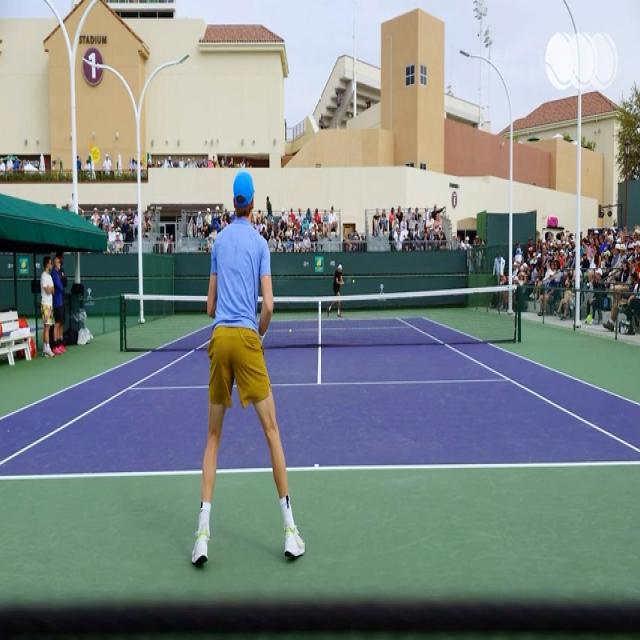ready-position: (197, 158, 302, 560)
